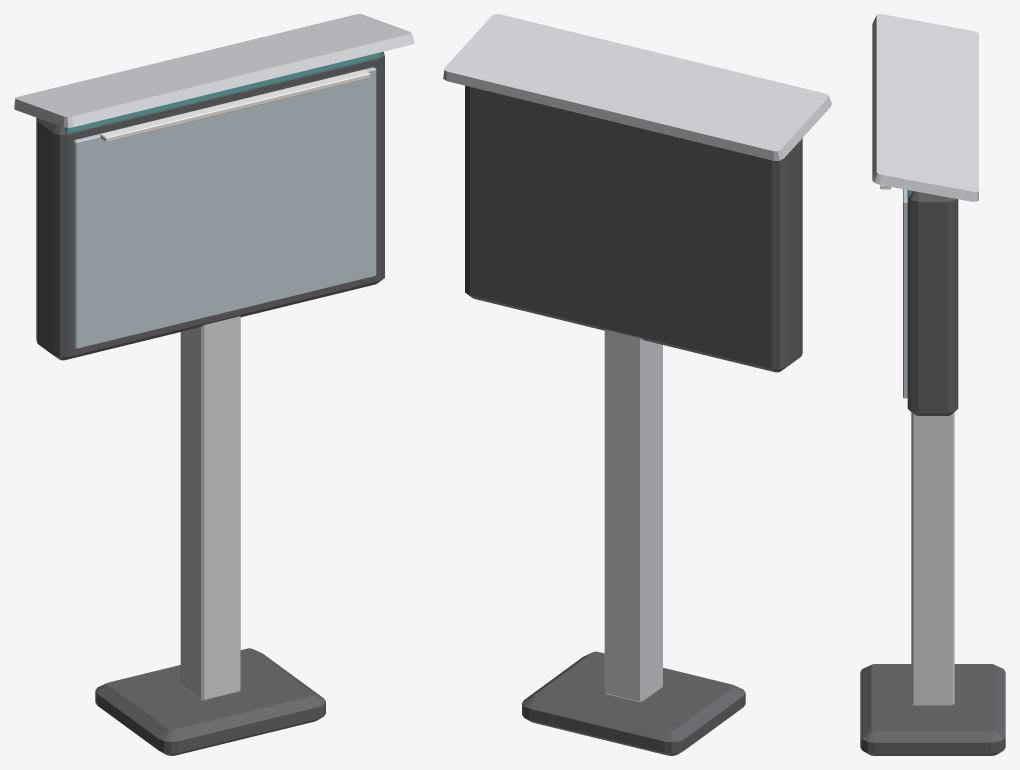
Rendered from fast-food-and-drive-thru-drive-thru-preorder-board-24b4b17c__16123.glb.
The picture shows the model from 3 angles, left to right: view 1: azimuth 30°, elevation 25°; view 2: azimuth 150°, elevation 25°; view 3: azimuth 270°, elevation 25°; orthographic projection. The views are drawn at different scales.
Parts seen in each view (by area): view 1: drive-thru-preorder-board; view 2: drive-thru-preorder-board; view 3: drive-thru-preorder-board.
Boxes of the visible parts, x1=… form: drive-thru-preorder-board: x1=14, y1=14, x2=414, y2=755; drive-thru-preorder-board: x1=443, y1=14, x2=831, y2=755; drive-thru-preorder-board: x1=860, y1=14, x2=1005, y2=755.
Size of the model in its own units: 1.06 by 1.91 by 0.4.
